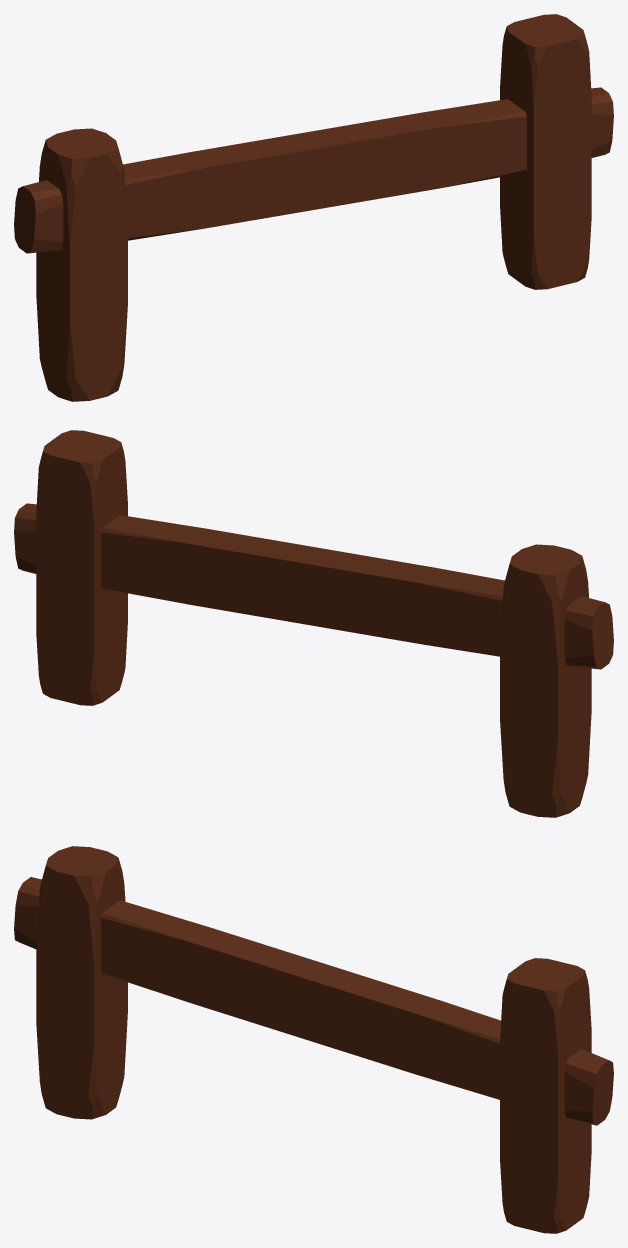
File: Fence-1.fbx
3 renders of one model, top to bottom at view 1: azimuth 30°, elevation 25°; view 2: azimuth 150°, elevation 25°; view 3: azimuth 330°, elevation 25°, orthographic.
Visible parts, largest first — view 1: F1-Fence; view 2: F1-Fence; view 3: F1-Fence.
Part boxes in pixels (x1,y1,x2,y2): F1-Fence: [14, 14, 613, 401]; F1-Fence: [14, 430, 613, 817]; F1-Fence: [14, 846, 613, 1233].
Bounding box in the file's own units: 502 × 50 × 200.
